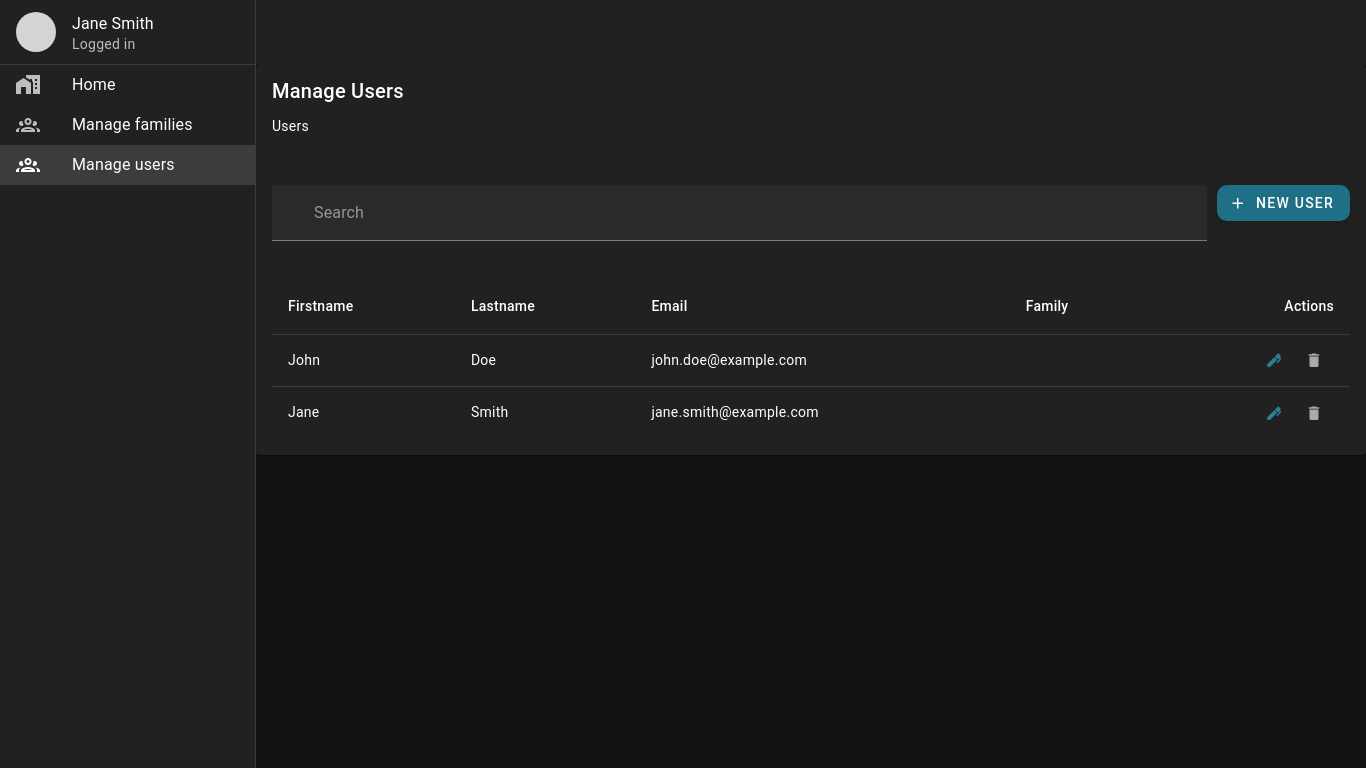
Test: Manage Users Page › should show a confirmation dialogue when deleting a user
# Click the delete button for the first user
What coordinates should you click on to do the following:
click the 1st icon with class "mdi-delete"
I would click on:
 (1314, 360)
Its box is [1305, 351, 1323, 369].
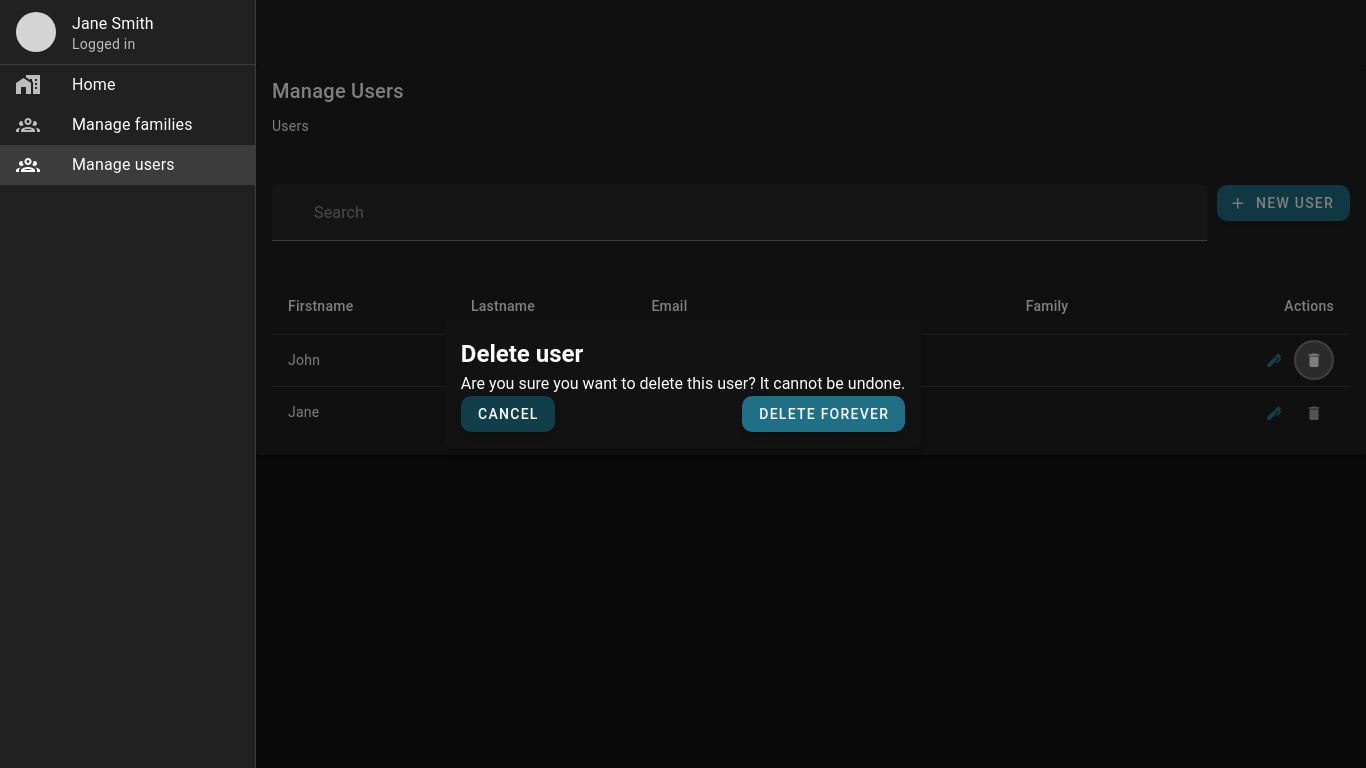
Expected: the element with class "window" is shown, [445, 320, 921, 448]
